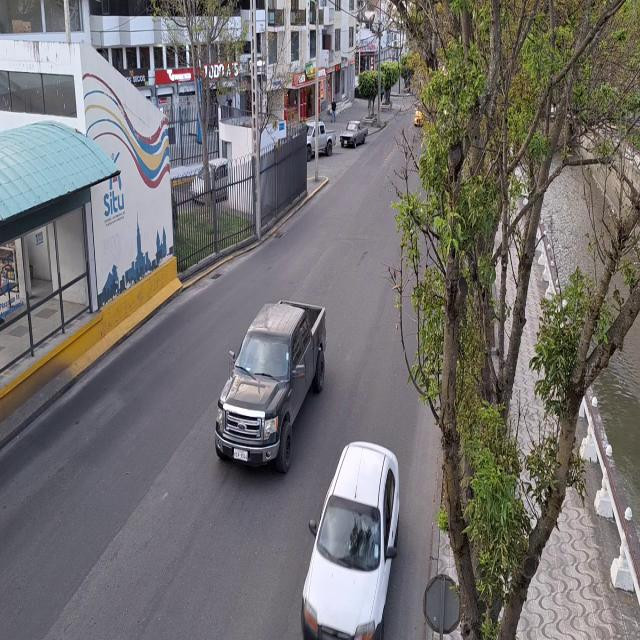CMT: (217, 305, 324, 474), (340, 121, 368, 148)
SED: (301, 439, 401, 639)
